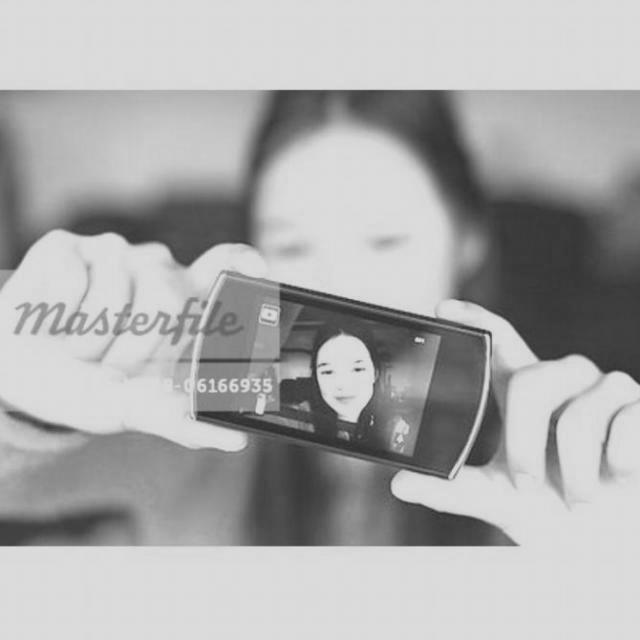fake: (188, 262, 497, 482)
